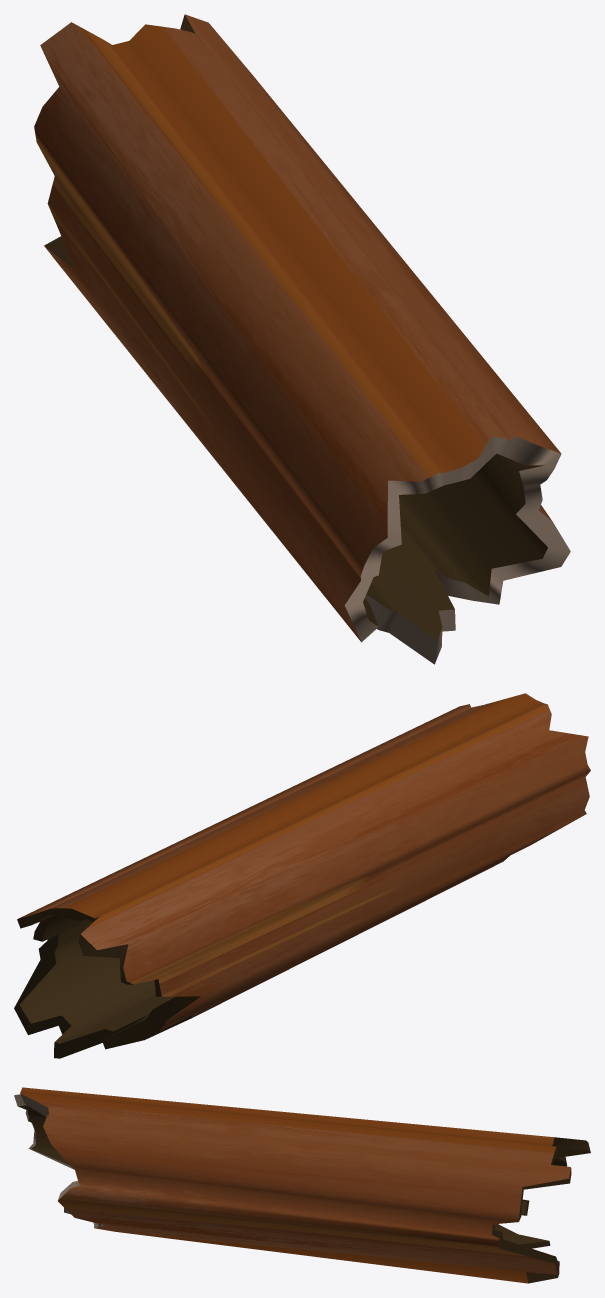
File: Log.fbx
3 views of the same model, one above another, from view 1: azimuth 30°, elevation 25°; view 2: azimuth 150°, elevation 25°; view 3: azimuth 270°, elevation 25° (orthographic). The views are drawn at different scales.
Parts seen in each view (by area): view 1: Log; view 2: Log; view 3: Log.
Part boxes in pixels (x1,y1,x2,y2): Log: (34, 14, 570, 664); Log: (14, 693, 590, 1058); Log: (14, 1087, 590, 1283).
Size of the model in its own units: 50.15 by 29.26 by 116.
